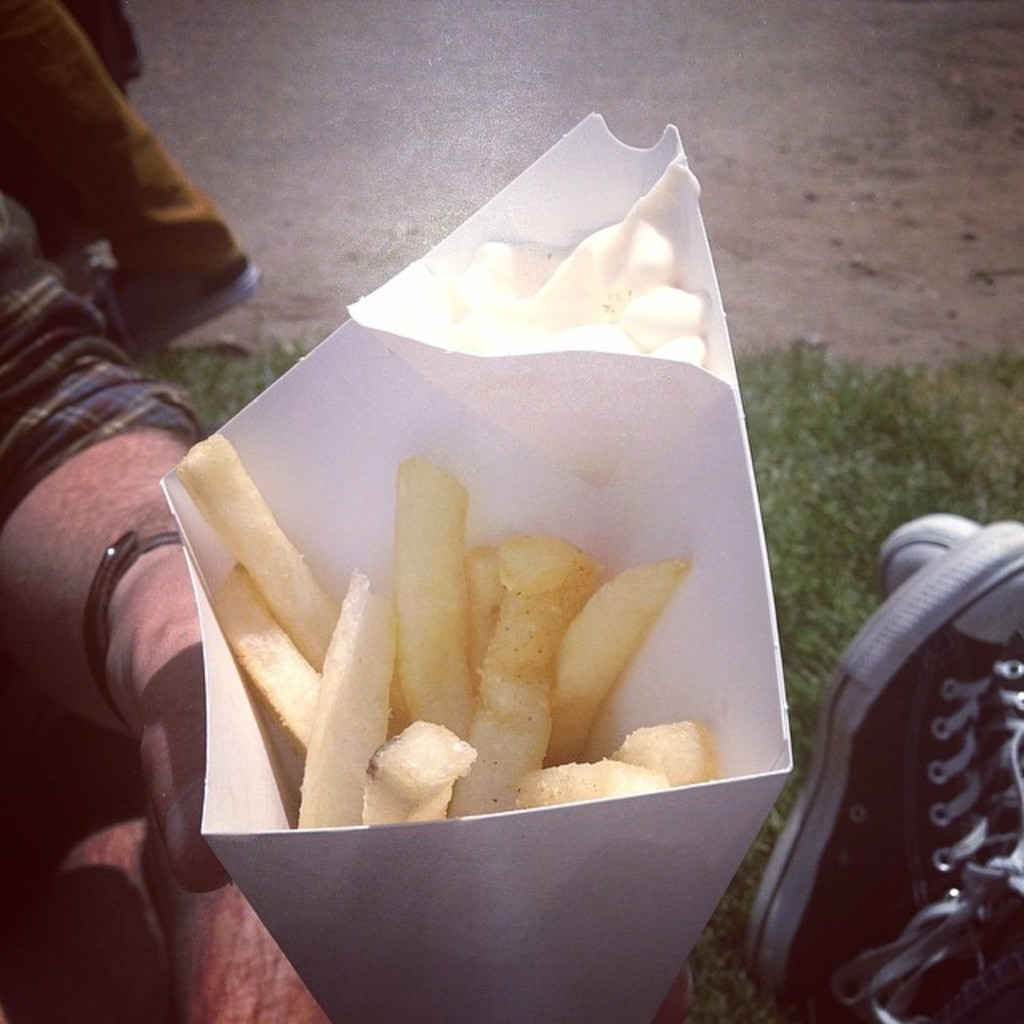French fries: (167, 436, 724, 822)
